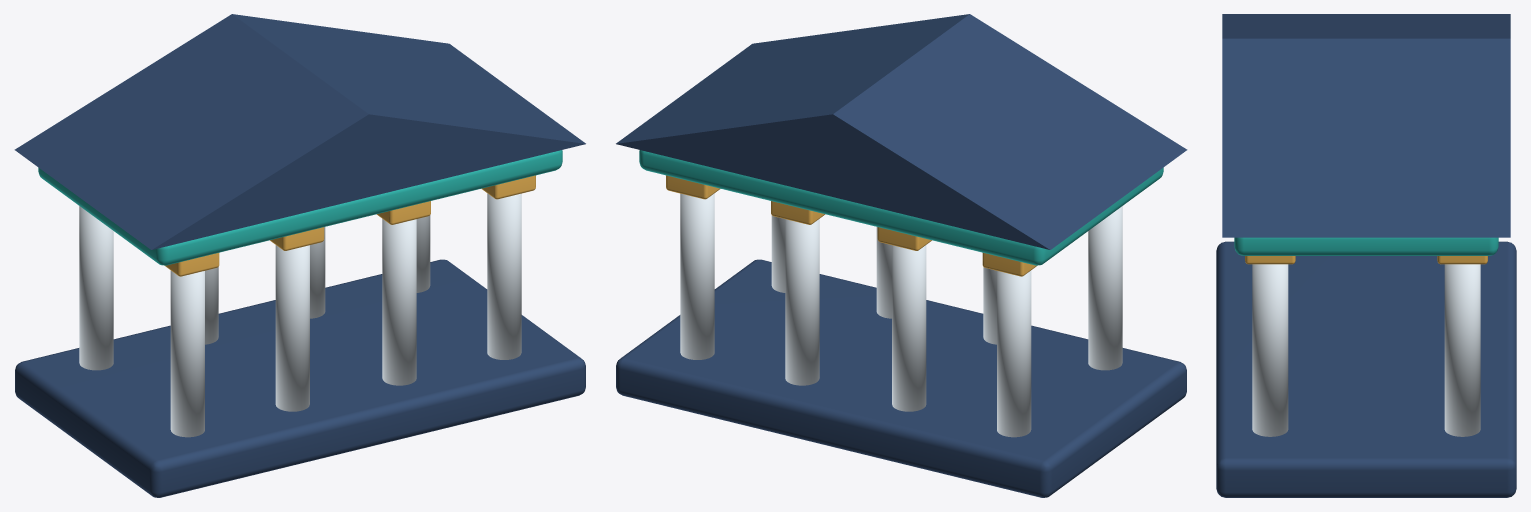
The model's file is classical-temple-quality.glb.
3 views of the same model, side by side, from view 1: azimuth 30°, elevation 25°; view 2: azimuth 150°, elevation 25°; view 3: azimuth 270°, elevation 25° (orthographic). The views are drawn at different scales.
Parts seen in each view (by area): view 1: Platform; view 2: Platform; view 3: Platform.
Boxes of the visible parts, x1,y1,x2,y2 form: Platform: [14, 14, 585, 497]; Platform: [616, 14, 1187, 497]; Platform: [1216, 14, 1516, 497].
Bounding box in the file's own units: 2.2 × 1.61 × 1.25.
